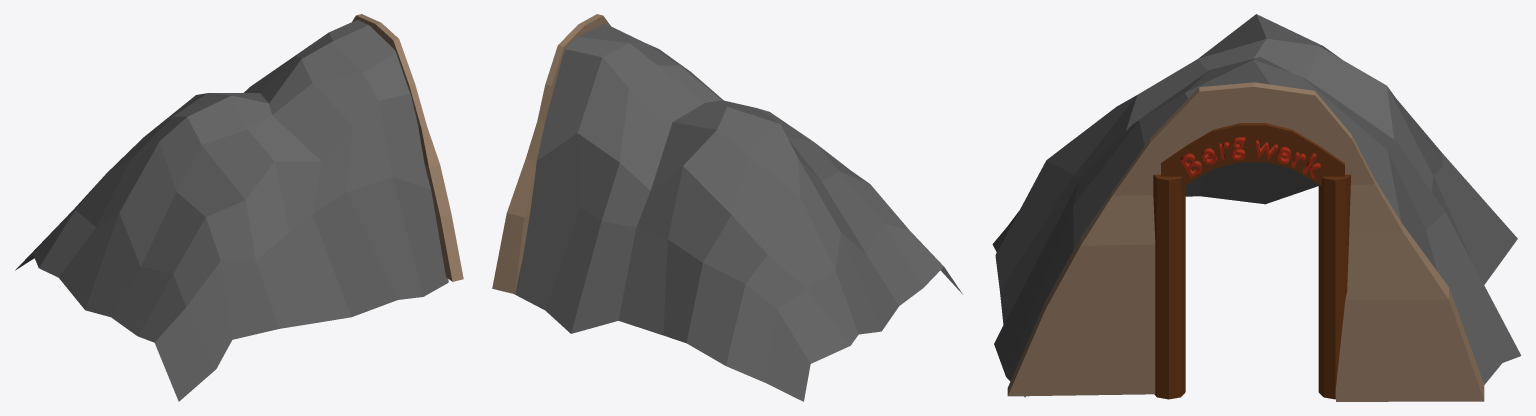
File: Miene1.fbx
3 renders of one model, left to right at view 1: azimuth 30°, elevation 25°; view 2: azimuth 150°, elevation 25°; view 3: azimuth 270°, elevation 25°, orthographic. The views are drawn at different scales.
Parts seen in each view (by area): view 1: Plane.001, Cube.001; view 2: Plane.001, Cube.001; view 3: Cube.001, Plane.001, Cylinder.013, Text.
Part boxes in pixels (x1,y1,x2,y2): Plane.001: (15,20,448,401); Cube.001: (352,14,463,281); Plane.001: (514,23,962,401); Cube.001: (492,14,610,294); Cube.001: (1007,82,1484,401); Plane.001: (992,14,1521,397); Cylinder.013: (1153,123,1350,399); Text: (1180,137,1321,178).
Bounding box in the file's own units: 3.29 × 2.54 × 3.15.
